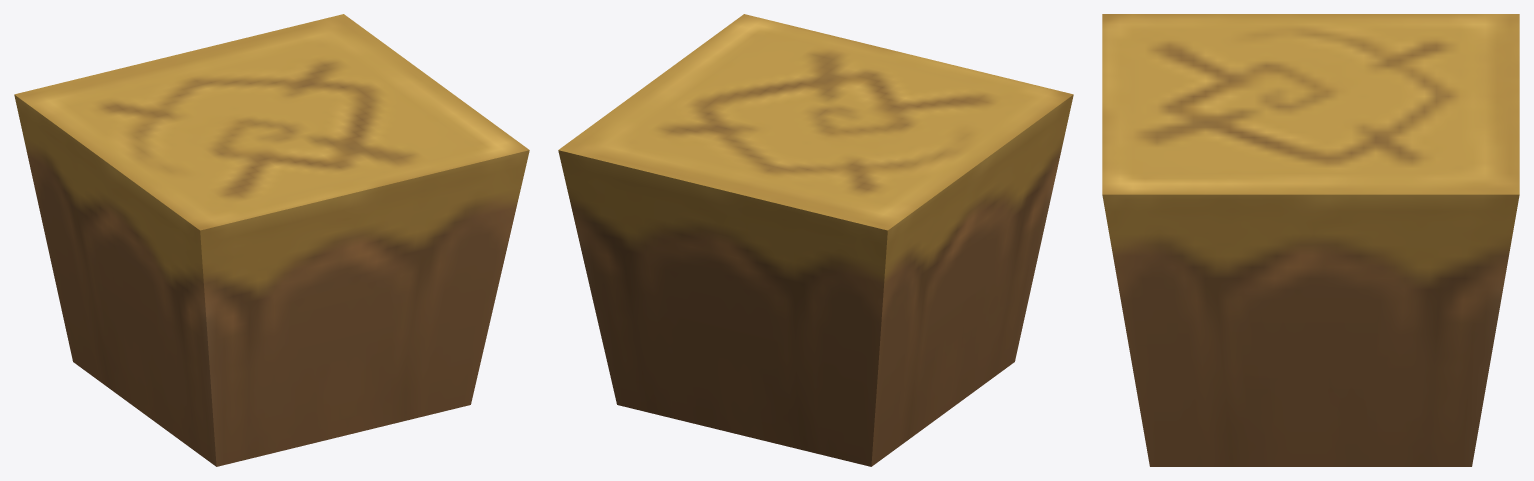
The model's file is ZD02_mutou04.FBX.
The picture shows the model from 3 angles, left to right: view 1: azimuth 30°, elevation 25°; view 2: azimuth 150°, elevation 25°; view 3: azimuth 270°, elevation 25°; orthographic projection. The views are drawn at different scales.
Visible parts, largest first — view 1: Object15; view 2: Object15; view 3: Object15.
Part boxes in pixels (x1,y1,x2,y2): Object15: (14, 14, 529, 466); Object15: (558, 14, 1073, 466); Object15: (1102, 14, 1519, 466).
Size of the model in its own units: 0.5096 by 0.3858 by 0.498.
